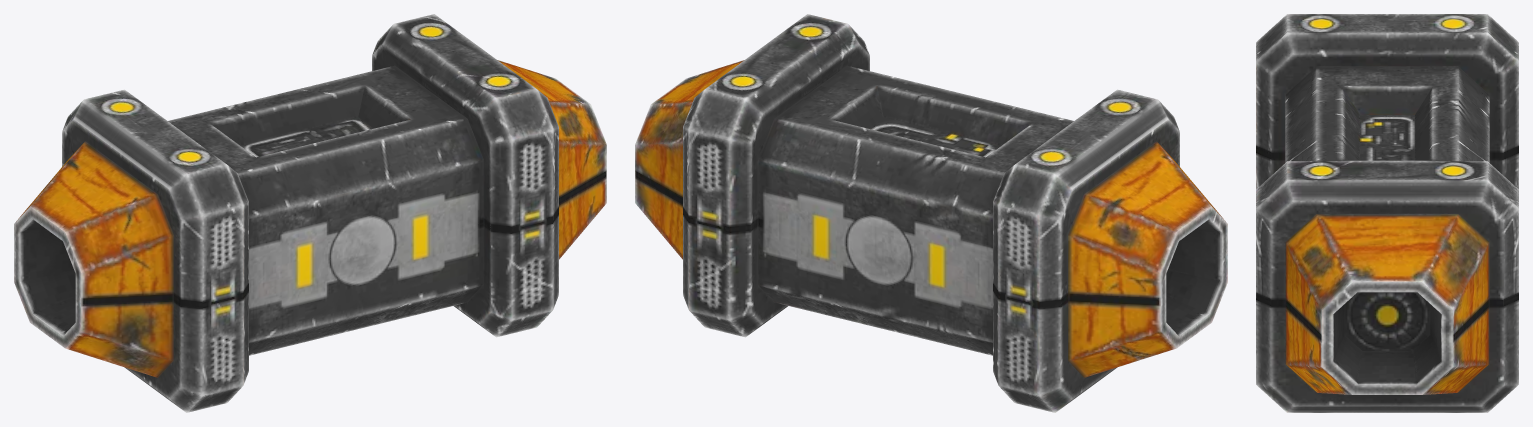
Rendered from crate-scifi.glb.
The picture shows the model from 3 angles, left to right: view 1: azimuth 30°, elevation 25°; view 2: azimuth 150°, elevation 25°; view 3: azimuth 270°, elevation 25°; orthographic projection. The views are drawn at different scales.
Visible parts, largest first — view 1: SciFi_GetNoobed_LP2; view 2: SciFi_GetNoobed_LP2; view 3: SciFi_GetNoobed_LP2.
Boxes of the visible parts, <box> form: SciFi_GetNoobed_LP2: <box>14,14,606,412</box>; SciFi_GetNoobed_LP2: <box>635,14,1227,412</box>; SciFi_GetNoobed_LP2: <box>1256,14,1518,412</box>.
Bounding box in the file's own units: 1.2 × 0.5196 × 0.5327.
Materials: 1 (1 with a texture image).
